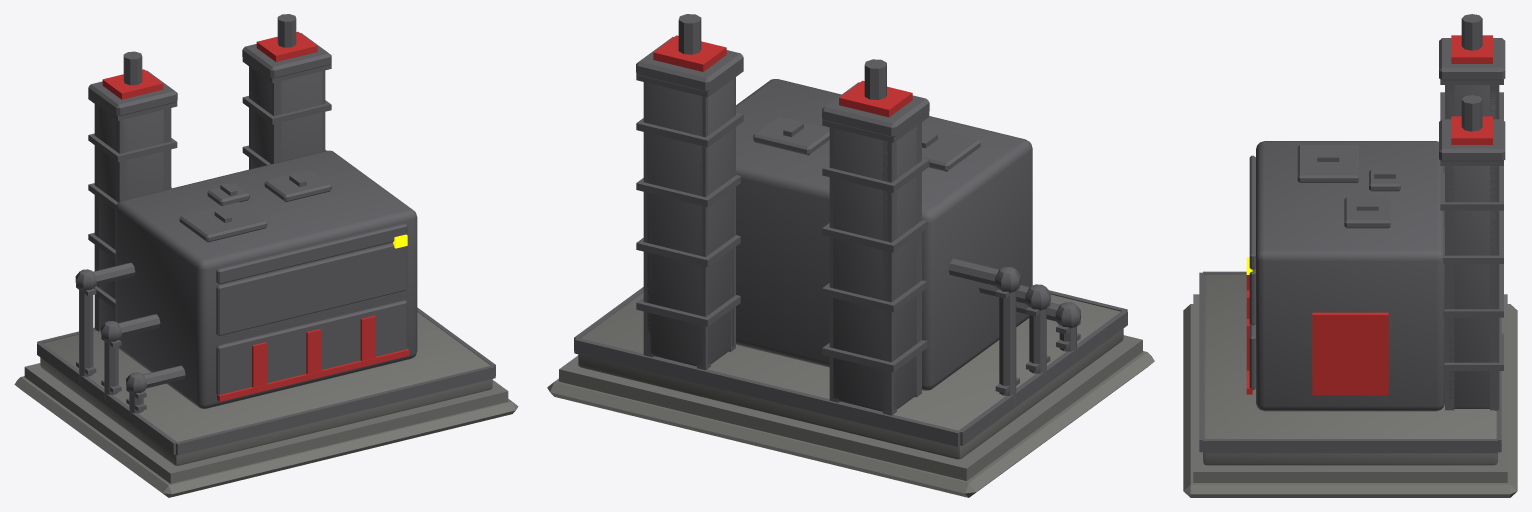
File: crimson_power_plant.glb
The picture shows the model from 3 angles, left to right: view 1: azimuth 30°, elevation 25°; view 2: azimuth 150°, elevation 25°; view 3: azimuth 270°, elevation 25°; orthographic projection. The views are drawn at different scales.
Parts seen in each view (by area): view 1: CrimsonPowerPlant; view 2: CrimsonPowerPlant; view 3: CrimsonPowerPlant.
Boxes of the visible parts, left/top/right/bottom form: CrimsonPowerPlant: left=14, top=14, right=518, bottom=497; CrimsonPowerPlant: left=547, top=14, right=1154, bottom=497; CrimsonPowerPlant: left=1183, top=14, right=1517, bottom=497.
Size of the model in its own units: 3.6 by 3.13 by 2.72.
